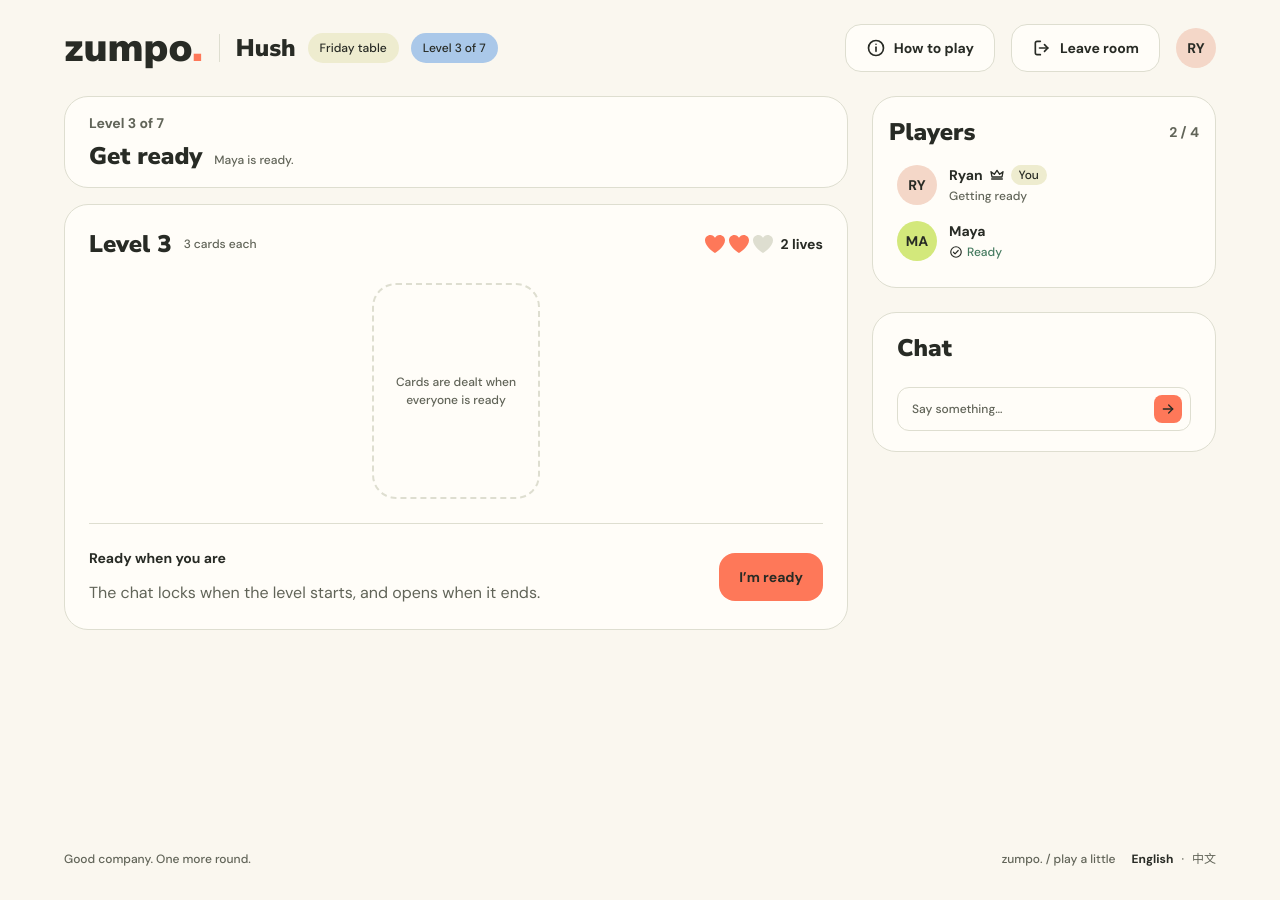
Test: a Hush room › asks everybody to get ready, with the chat open
Expected: the text "Level 3 of 7" next to "Players" is shown, 89,114 -> 164,132
Expected: the text "Get ready" is shown, 89,141 -> 202,171
Click the button "I’m ready" at (771, 576), box 719,552 -> 823,600
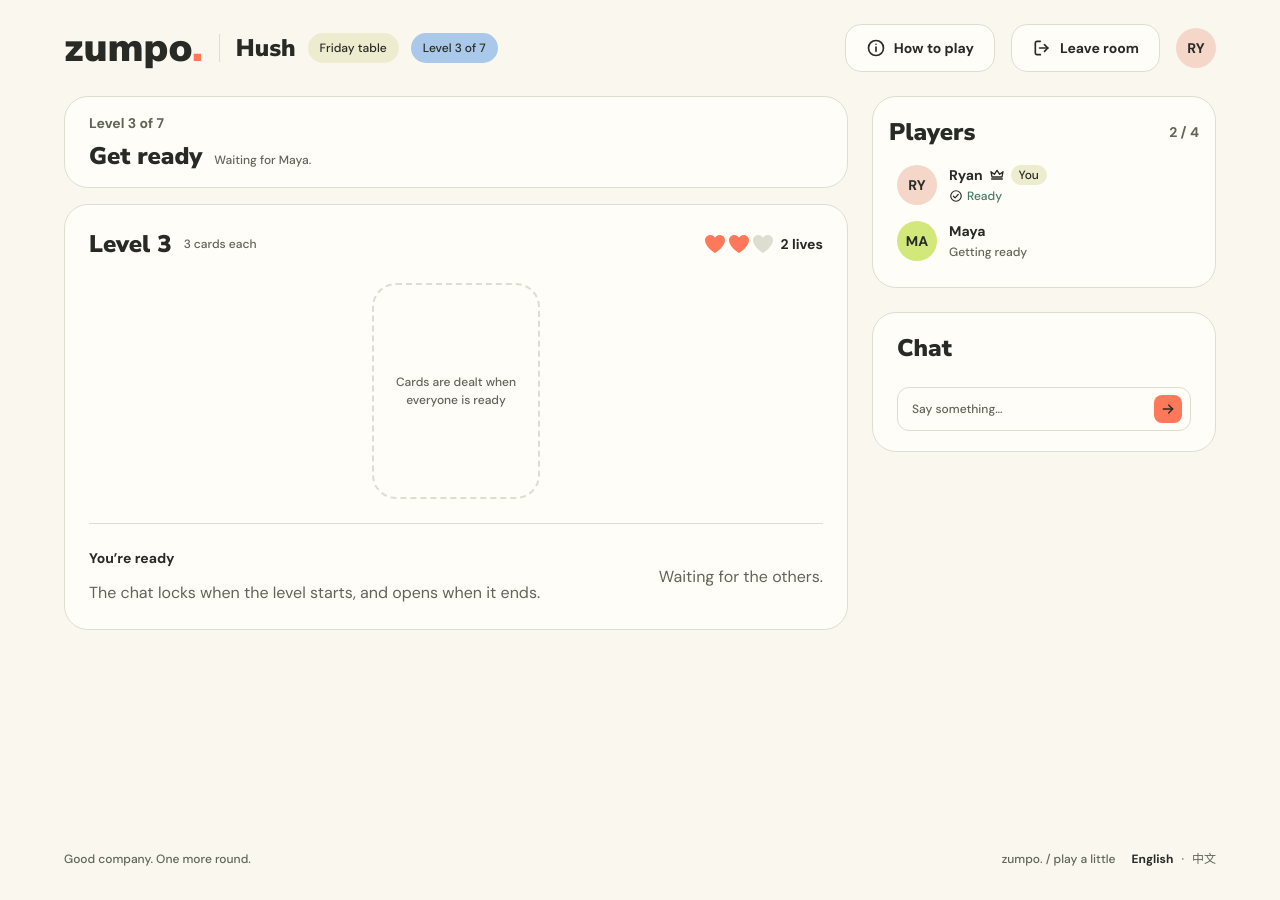
Expected: the text "Waiting for Maya." is shown, 214,151 -> 311,169
Expected: the button "I’m ready" is gone
